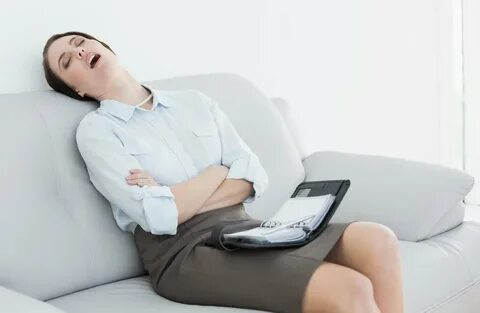sleep: (40, 30, 283, 262)
